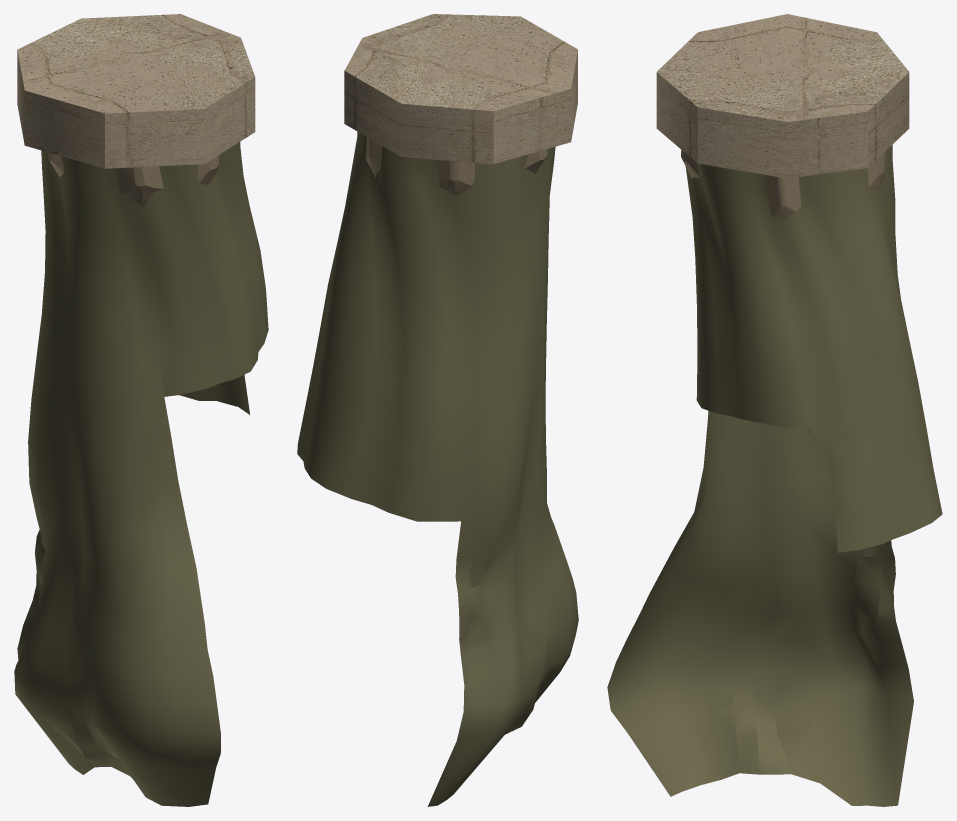
The model's file is SM_ENV_KNFRST_LargeTree_C_COL.FBX.
3 views of the same model, side by side, from view 1: azimuth 30°, elevation 25°; view 2: azimuth 150°, elevation 25°; view 3: azimuth 270°, elevation 25° (orthographic). The views are drawn at different scales.
Visible parts, largest first — view 1: SM_ENV_KNFRST_LargeTree_C_COL; view 2: SM_ENV_KNFRST_LargeTree_C_COL; view 3: SM_ENV_KNFRST_LargeTree_C_COL.
Boxes of the visible parts, bbox=[...] form: SM_ENV_KNFRST_LargeTree_C_COL: bbox=[14, 14, 268, 806]; SM_ENV_KNFRST_LargeTree_C_COL: bbox=[297, 14, 578, 806]; SM_ENV_KNFRST_LargeTree_C_COL: bbox=[607, 14, 942, 806].
Bounding box in the file's own units: 2146 × 5984 × 2433.
